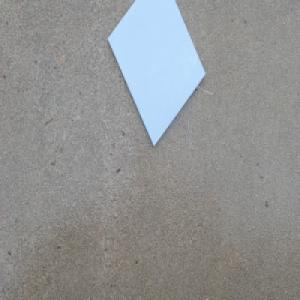PaintChip: (106, 0, 207, 147)
